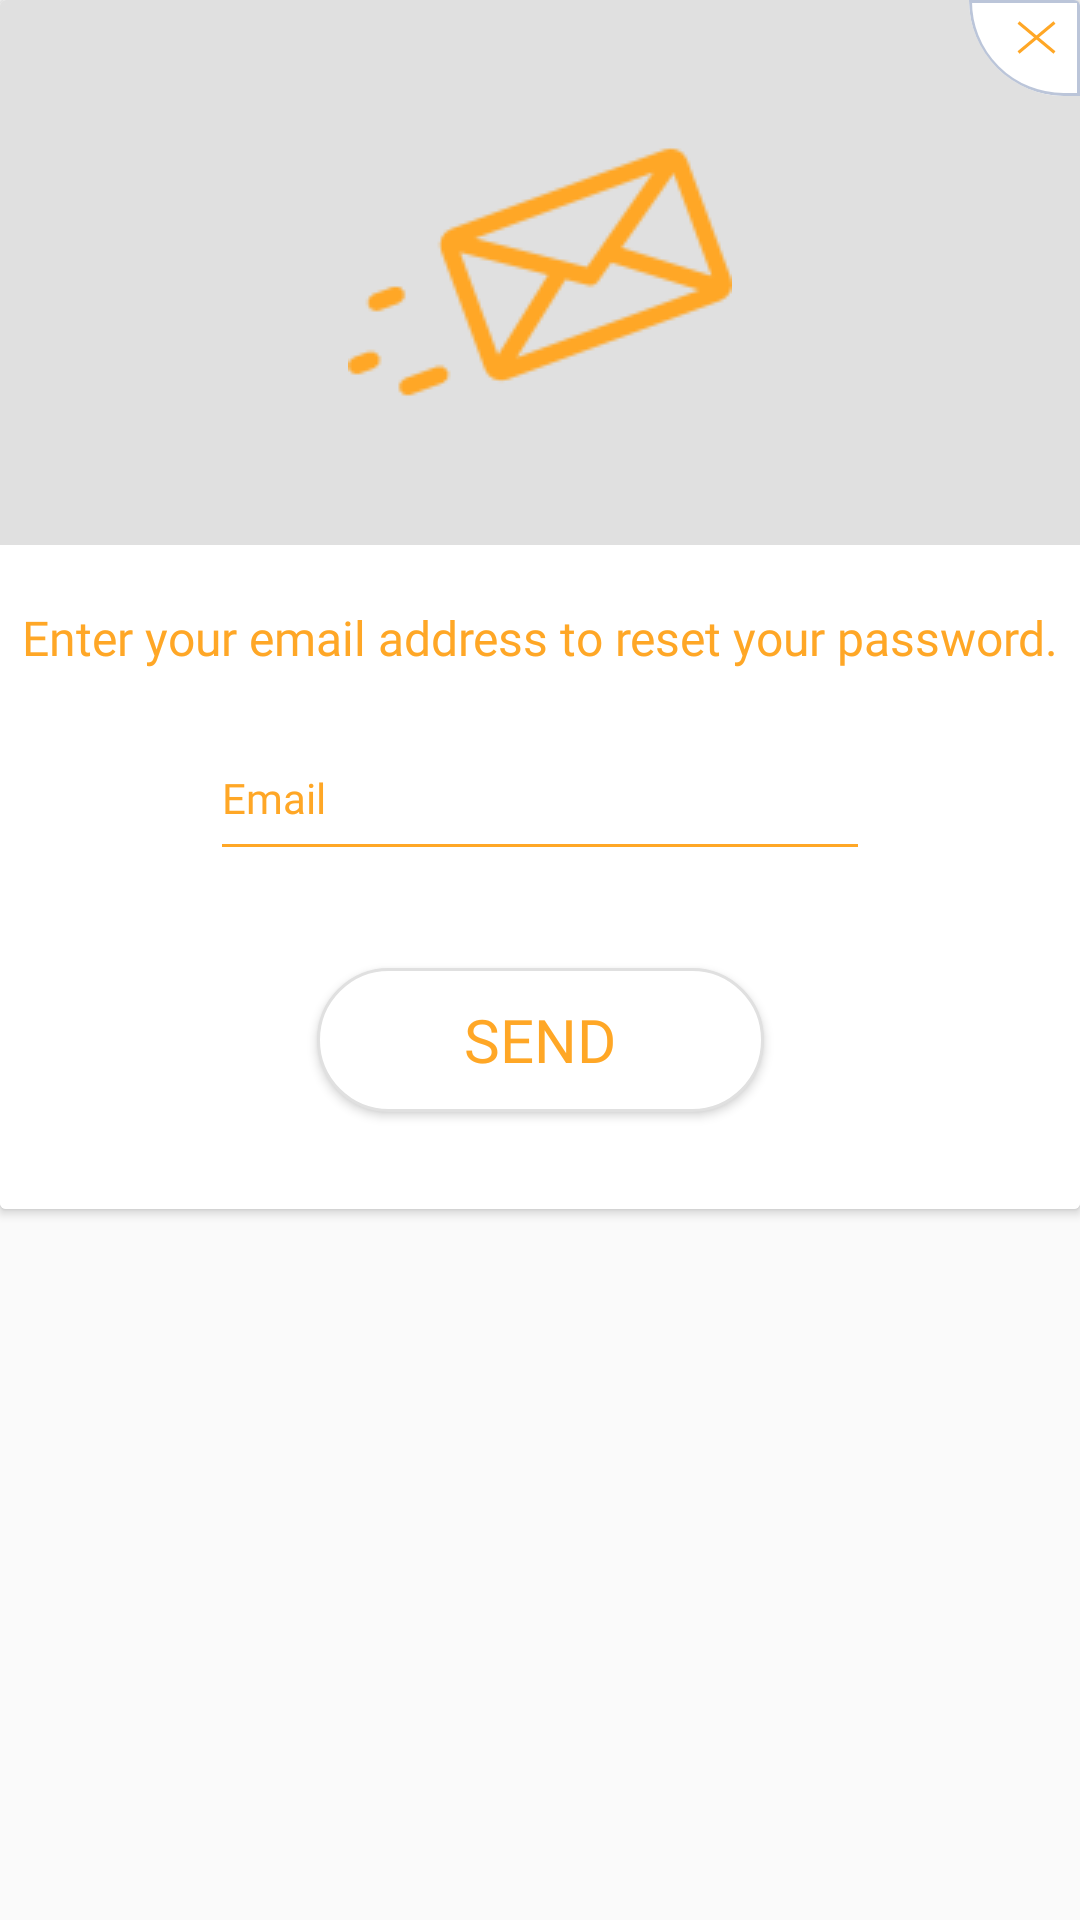

Named icons in this screenshot (1080 x 1920) and their centers, point (x, y):
forgotpass closebutton: point (1024, 48)
